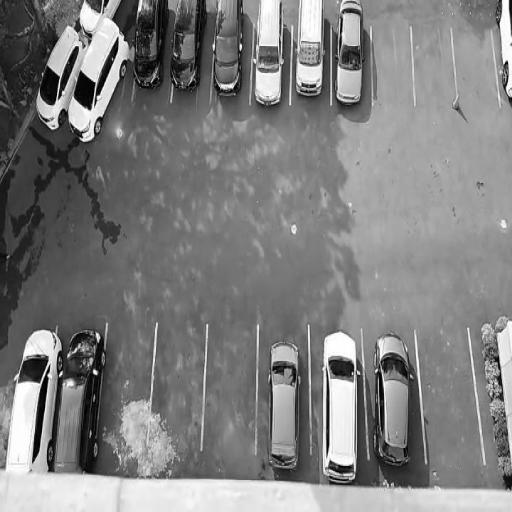Car: (58, 15, 136, 154), (2, 320, 64, 476), (49, 325, 109, 473), (26, 16, 89, 148), (316, 321, 362, 491), (371, 327, 418, 473), (264, 332, 306, 479), (251, 0, 286, 110), (167, 0, 207, 96), (333, 0, 368, 109), (130, 0, 168, 96), (211, 0, 248, 96), (294, 0, 328, 103), (492, 0, 512, 105), (73, 0, 123, 40)
Space Available: (417, 325, 486, 464), (147, 323, 208, 450), (96, 320, 157, 445), (201, 325, 259, 455), (452, 26, 502, 104), (411, 22, 458, 103), (371, 21, 415, 104)
